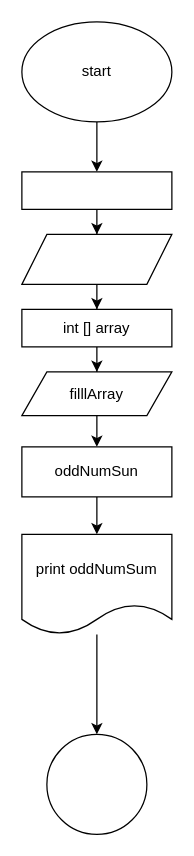
Image size: 194x856. Some labels were removed from this diagram. Each missing label, with the centre of its shape:
"end" goes at point (96, 783).
"int N" goes at point (96, 190).
"N = sc.nextInt()" goes at point (96, 258).
